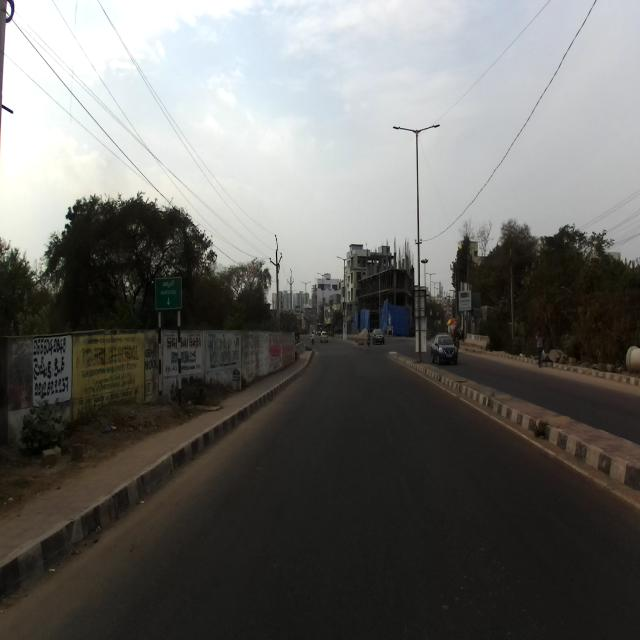sign board ahead at: (152, 271, 186, 315)
